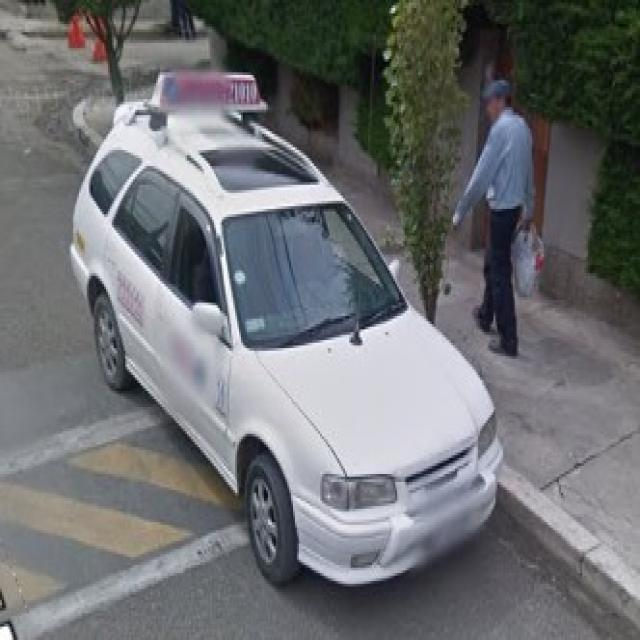cars: (67, 107, 505, 579)
